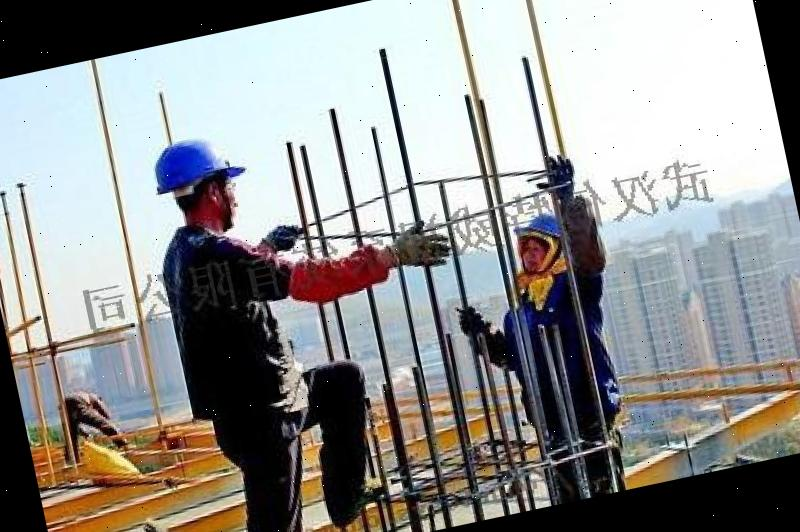helmet: (144, 129, 248, 197), (511, 210, 562, 250)
